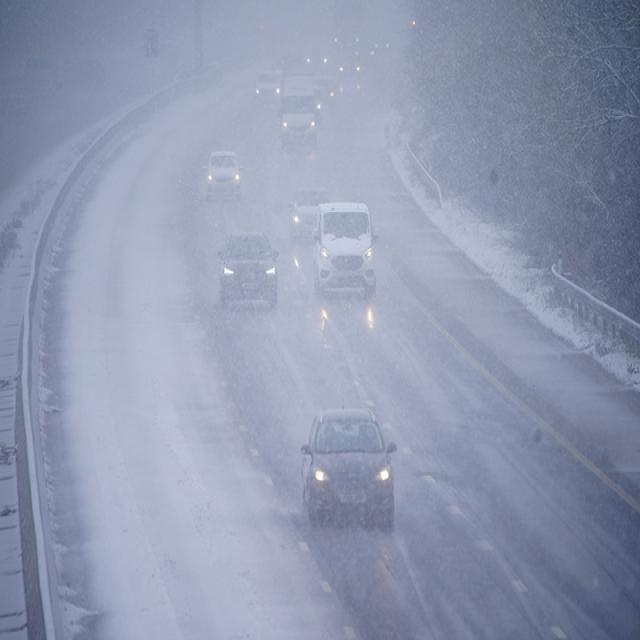moderate_traffic: (181, 0, 427, 605)
